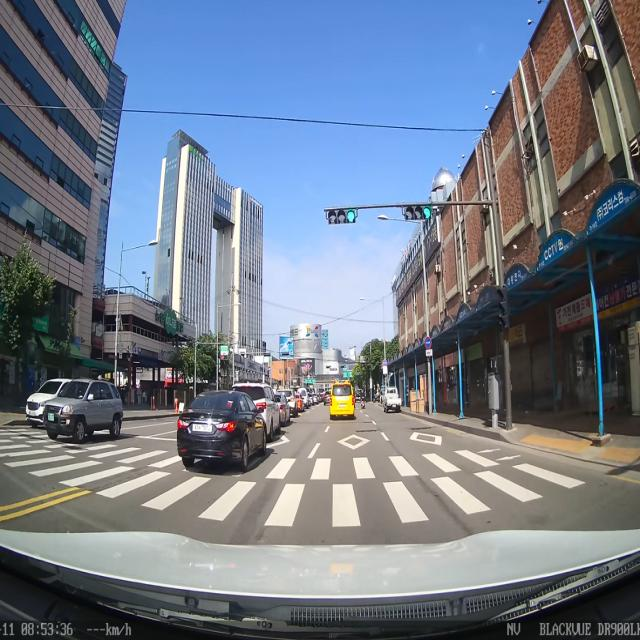Green Light: (346, 209, 356, 223), (422, 206, 431, 220)
